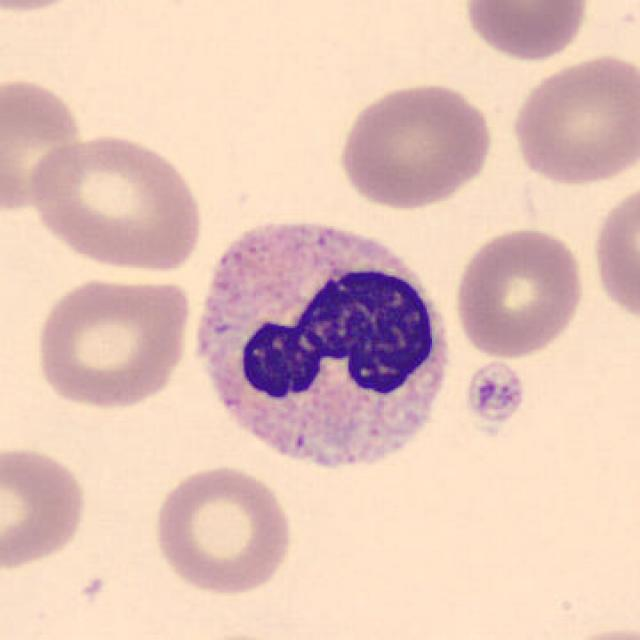Neutrophil: (183, 204, 461, 496)
Platelets: (460, 360, 530, 430)
RBC: (25, 129, 208, 273), (30, 270, 194, 411), (334, 77, 496, 212), (149, 462, 297, 598), (450, 224, 588, 361), (505, 51, 638, 189), (0, 72, 89, 217), (0, 441, 91, 573), (460, 0, 593, 63), (588, 174, 638, 328), (0, 0, 96, 14)
